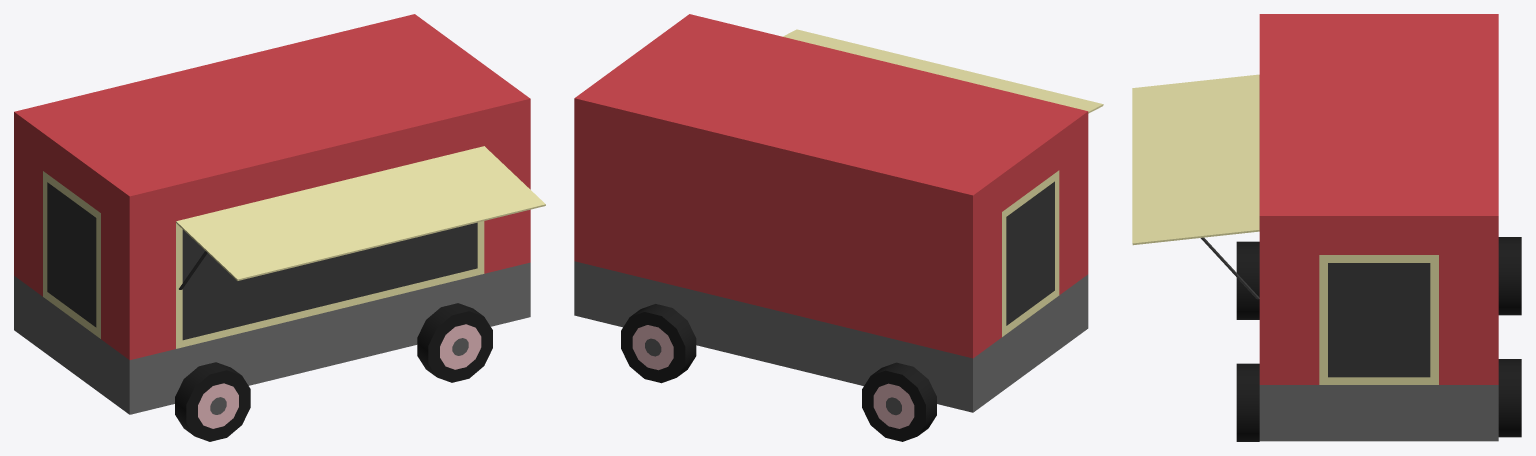
Rendered from FastFoodTrailer.fbx.
3 renders of one model, left to right at view 1: azimuth 30°, elevation 25°; view 2: azimuth 150°, elevation 25°; view 3: azimuth 270°, elevation 25°, orthographic. The views are drawn at different scales.
Parts seen in each view (by area): view 1: FastFoodTrailer; view 2: FastFoodTrailer; view 3: FastFoodTrailer.
Part boxes in pixels (box(x1,y1,x2,y2)): FastFoodTrailer: box(14, 14, 545, 441); FastFoodTrailer: box(574, 14, 1103, 441); FastFoodTrailer: box(1132, 14, 1521, 441).
Bounding box in the file's own units: 480 × 291 × 391.
